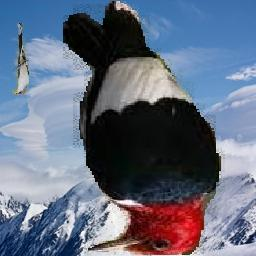Cuckoo: (13, 23, 30, 95)
Woodpecker: (63, 1, 225, 255)
